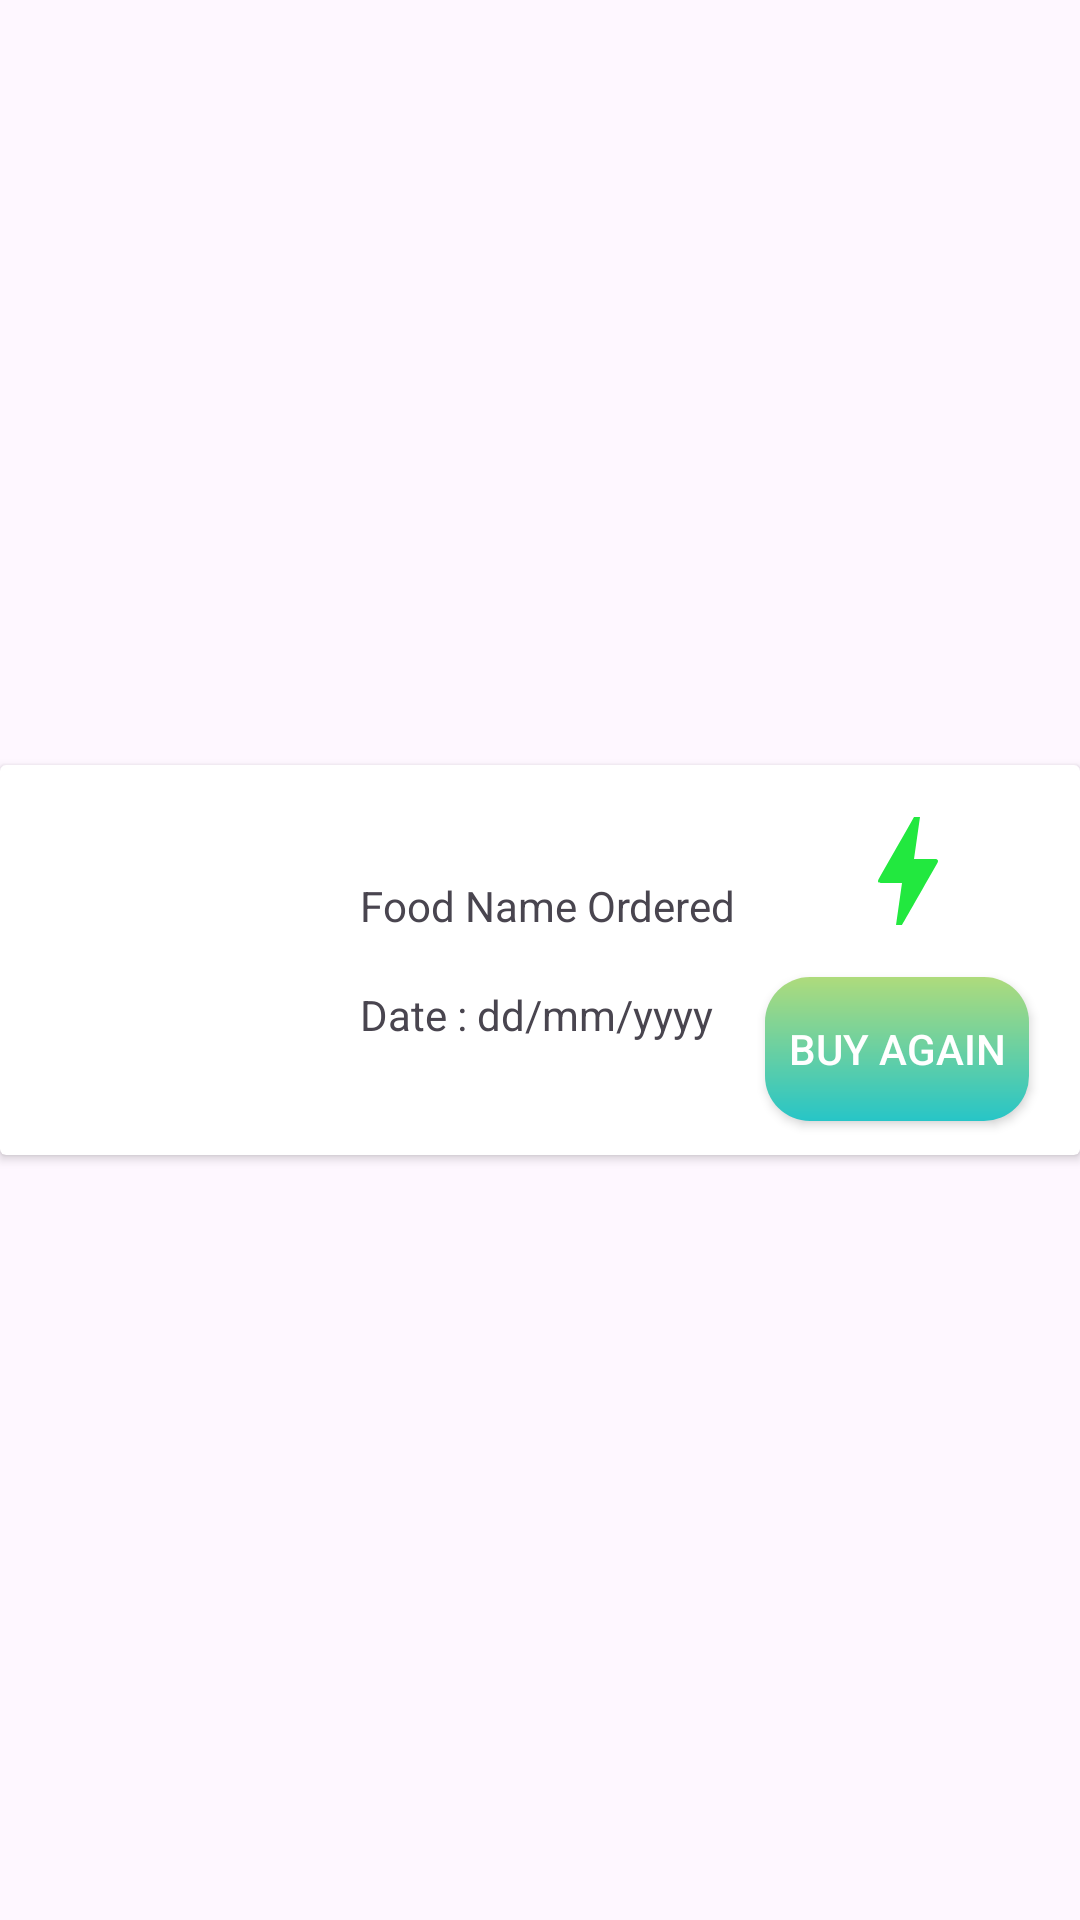

Screen size 1080 × 1920. Icon name, then its box in pixels as [x1,y1,x2,y2]:
bolt: [878,817,938,925]
